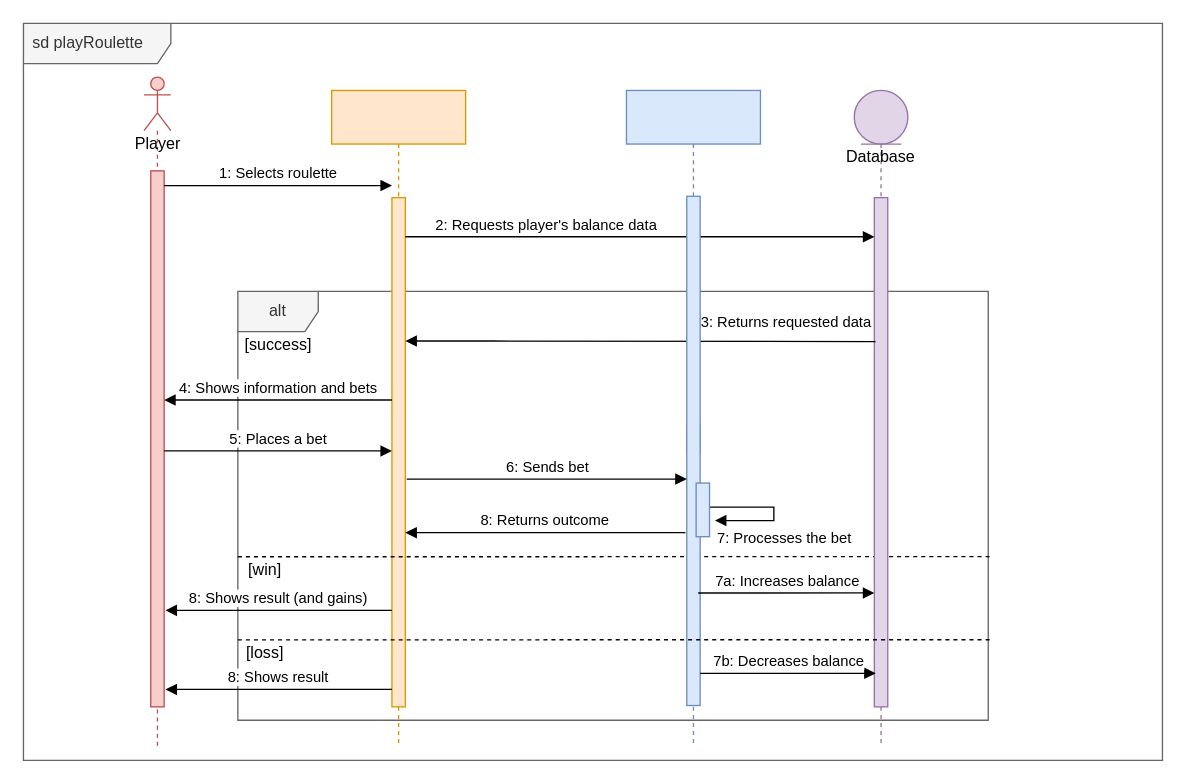
This 1186x784 diagram has some shape labels left out. Here are the shapes that lost their labels. From the top down, the box of each, then its label:
(330, 89, 466, 747): Client
(625, 89, 760, 747): Backend
